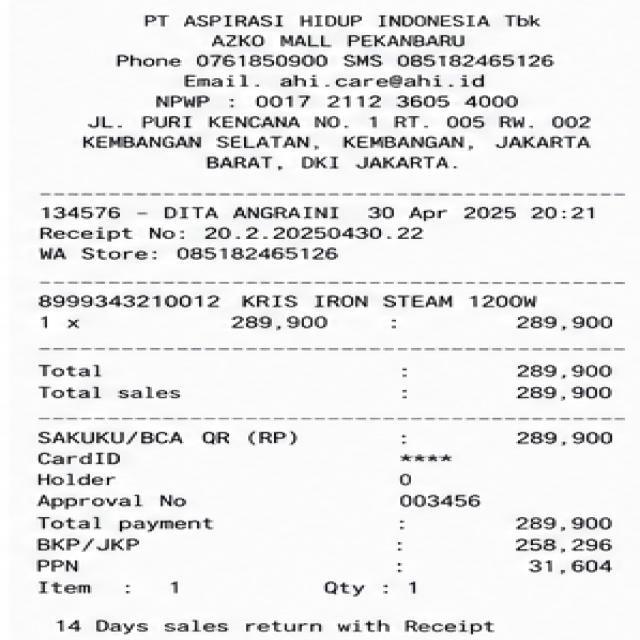date: (357, 203, 640, 223)
store: (142, 12, 558, 52)
total: (32, 510, 640, 534)
